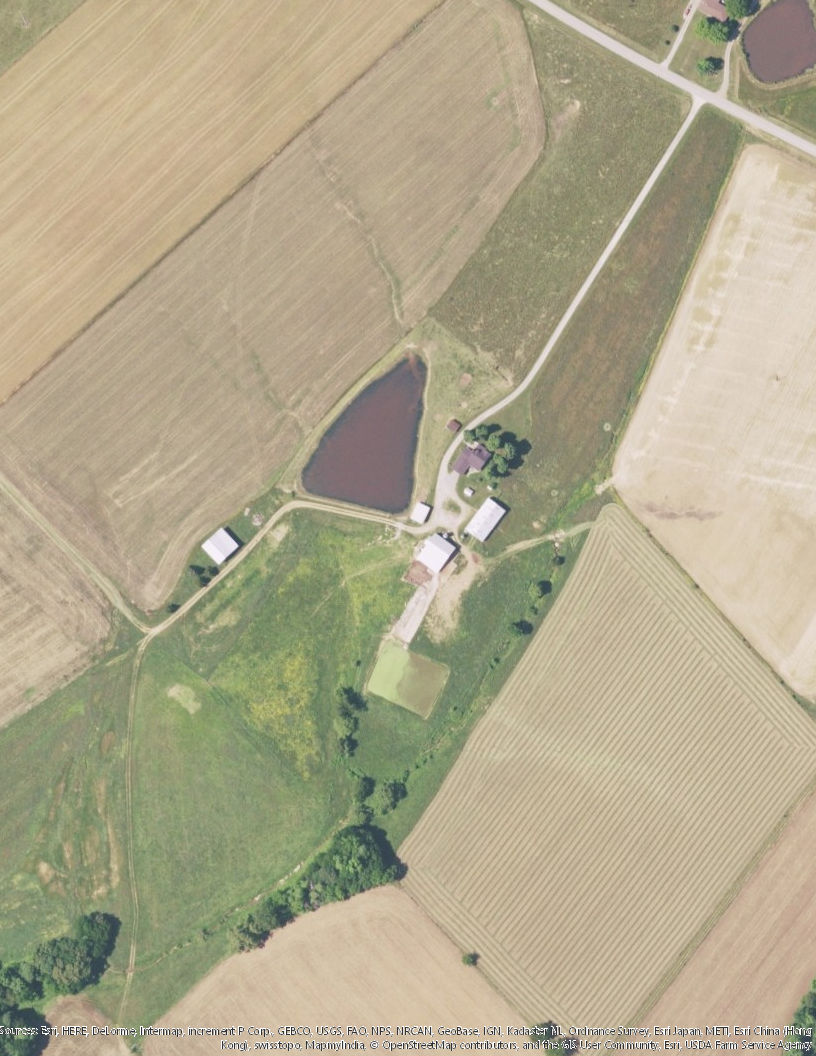cafo: (464, 491, 511, 544), (413, 531, 460, 577)
